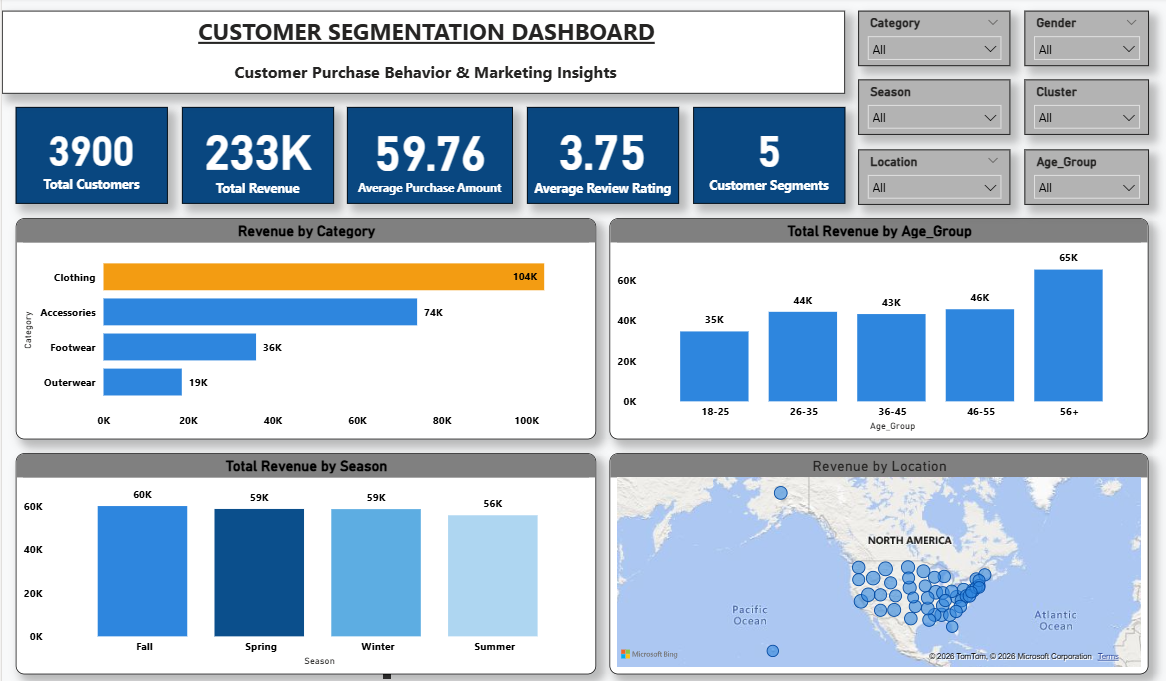

This screenshot's page, from the dashboard's own definition file:
{"tool":"powerbi","page":{"name":"customer segmentation dashboard","canvas":[1350,800],"ordinal":0},"visuals":[{"type":"card","fields":{"Values":["Customer_Segmentation_Clustered.Customer Segments"]},"box":[800,128,176,112],"z":0},{"type":"card","fields":{"Values":["CountNonNull(Customer_Segmentation_Clustered.Total Customers)"]},"box":[16,128,176,112],"z":1000},{"type":"card","fields":{"Values":["Customer_Segmentation_Clustered.Total Revenue"]},"box":[208,128,176,112],"z":2000},{"type":"card","fields":{"Values":["Customer_Segmentation_Clustered.Average Purchase Amount"]},"box":[400,128,192,112],"z":3000},{"type":"card","fields":{"Values":["Customer_Segmentation_Clustered.Average Review Rating"]},"box":[608,128,176,112],"z":4000},{"type":"textbox","box":[0,16,976,96],"z":5000},{"type":"clusteredBarChart","title":" Revenue by Category","fields":{"Category":["Customer_Segmentation_Clustered.Category"],"Y":["Customer_Segmentation_Clustered.Total Revenue"]},"box":[16,256,672,256],"z":6000},{"type":"clusteredColumnChart","fields":{"Y":["Customer_Segmentation_Clustered.Total Revenue"],"Category":["Customer_Segmentation_Clustered.Age_Group"]},"box":[704,256,624,256],"z":7000},{"type":"clusteredColumnChart","fields":{"Y":["Customer_Segmentation_Clustered.Total Revenue"],"Category":["Customer_Segmentation_Clustered.Season"]},"box":[16,528,672,256],"z":8000},{"type":"map","title":" Revenue by Location","fields":{"Category":["Customer_Segmentation_Clustered.Location"],"Size":["Customer_Segmentation_Clustered.Total Revenue"]},"box":[704,528,624,256],"z":9000},{"type":"slicer","fields":{"Values":["Customer_Segmentation_Clustered.Category"]},"box":[992,16,176,64],"z":10000},{"type":"slicer","fields":{"Values":["Customer_Segmentation_Clustered.Gender"]},"box":[1184,16,144,64],"z":11000},{"type":"slicer","fields":{"Values":["Customer_Segmentation_Clustered.Season"]},"box":[992,96,176,64],"z":12000},{"type":"slicer","fields":{"Values":["Customer_Segmentation_Clustered.Cluster"]},"box":[1184,96,144,64],"z":13000},{"type":"slicer","fields":{"Values":["Customer_Segmentation_Clustered.Location"]},"box":[992,176,176,64],"z":14000},{"type":"slicer","fields":{"Values":["Customer_Segmentation_Clustered.Age_Group"]},"box":[1184,176,144,64],"z":15000}]}

Visuals, with their boxes in screenshot pixels (x1, y1, x2, y2), scaled from the page's 1350x800 canvas onto the 1166x681 screenshot:
card - Customer_Segmentation_Clustered.Customer Segments: locate(691, 109, 843, 204)
card - CountNonNull(Customer_Segmentation_Clustered.Total Customers): locate(14, 109, 166, 204)
card - Customer_Segmentation_Clustered.Total Revenue: locate(180, 109, 332, 204)
card - Customer_Segmentation_Clustered.Average Purchase Amount: locate(345, 109, 511, 204)
card - Customer_Segmentation_Clustered.Average Review Rating: locate(525, 109, 677, 204)
textbox: locate(0, 14, 843, 95)
" Revenue by Category" clusteredBarChart: locate(14, 218, 594, 436)
clusteredColumnChart - Customer_Segmentation_Clustered.Total Revenue x Customer_Segmentation_Clustered.Age_Group: locate(608, 218, 1147, 436)
clusteredColumnChart - Customer_Segmentation_Clustered.Total Revenue x Customer_Segmentation_Clustered.Season: locate(14, 449, 594, 667)
" Revenue by Location" map: locate(608, 449, 1147, 667)
slicer - Customer_Segmentation_Clustered.Category: locate(857, 14, 1009, 68)
slicer - Customer_Segmentation_Clustered.Gender: locate(1023, 14, 1147, 68)
slicer - Customer_Segmentation_Clustered.Season: locate(857, 82, 1009, 136)
slicer - Customer_Segmentation_Clustered.Cluster: locate(1023, 82, 1147, 136)
slicer - Customer_Segmentation_Clustered.Location: locate(857, 150, 1009, 204)
slicer - Customer_Segmentation_Clustered.Age_Group: locate(1023, 150, 1147, 204)
